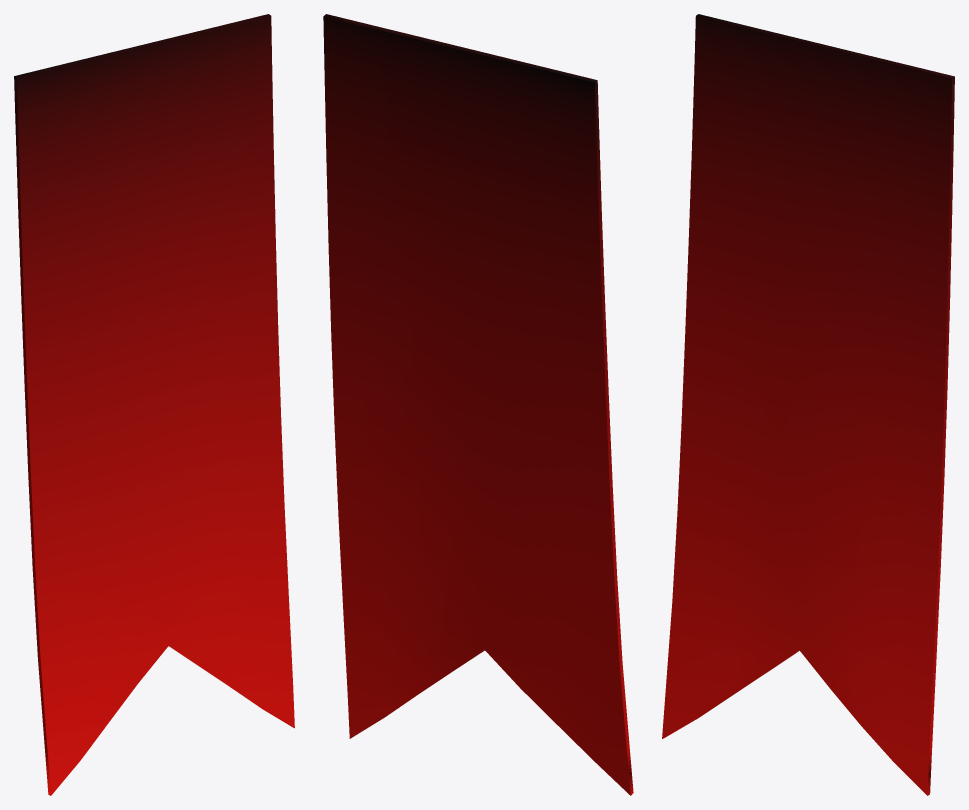
Rendered from Banner.obj.
3 renders of one model, left to right at view 1: azimuth 30°, elevation 25°; view 2: azimuth 150°, elevation 25°; view 3: azimuth 330°, elevation 25°, orthographic. The views are drawn at different scales.
Visible parts, largest first — view 1: Plane; view 2: Plane; view 3: Plane.
Boxes of the visible parts, x1=… form: Plane: x1=14, y1=14, x2=294, y2=795; Plane: x1=323, y1=14, x2=633, y2=795; Plane: x1=662, y1=14, x2=954, y2=795.
Bounding box in the file's own units: 0.5391 × 1.41 × 0.1345.
